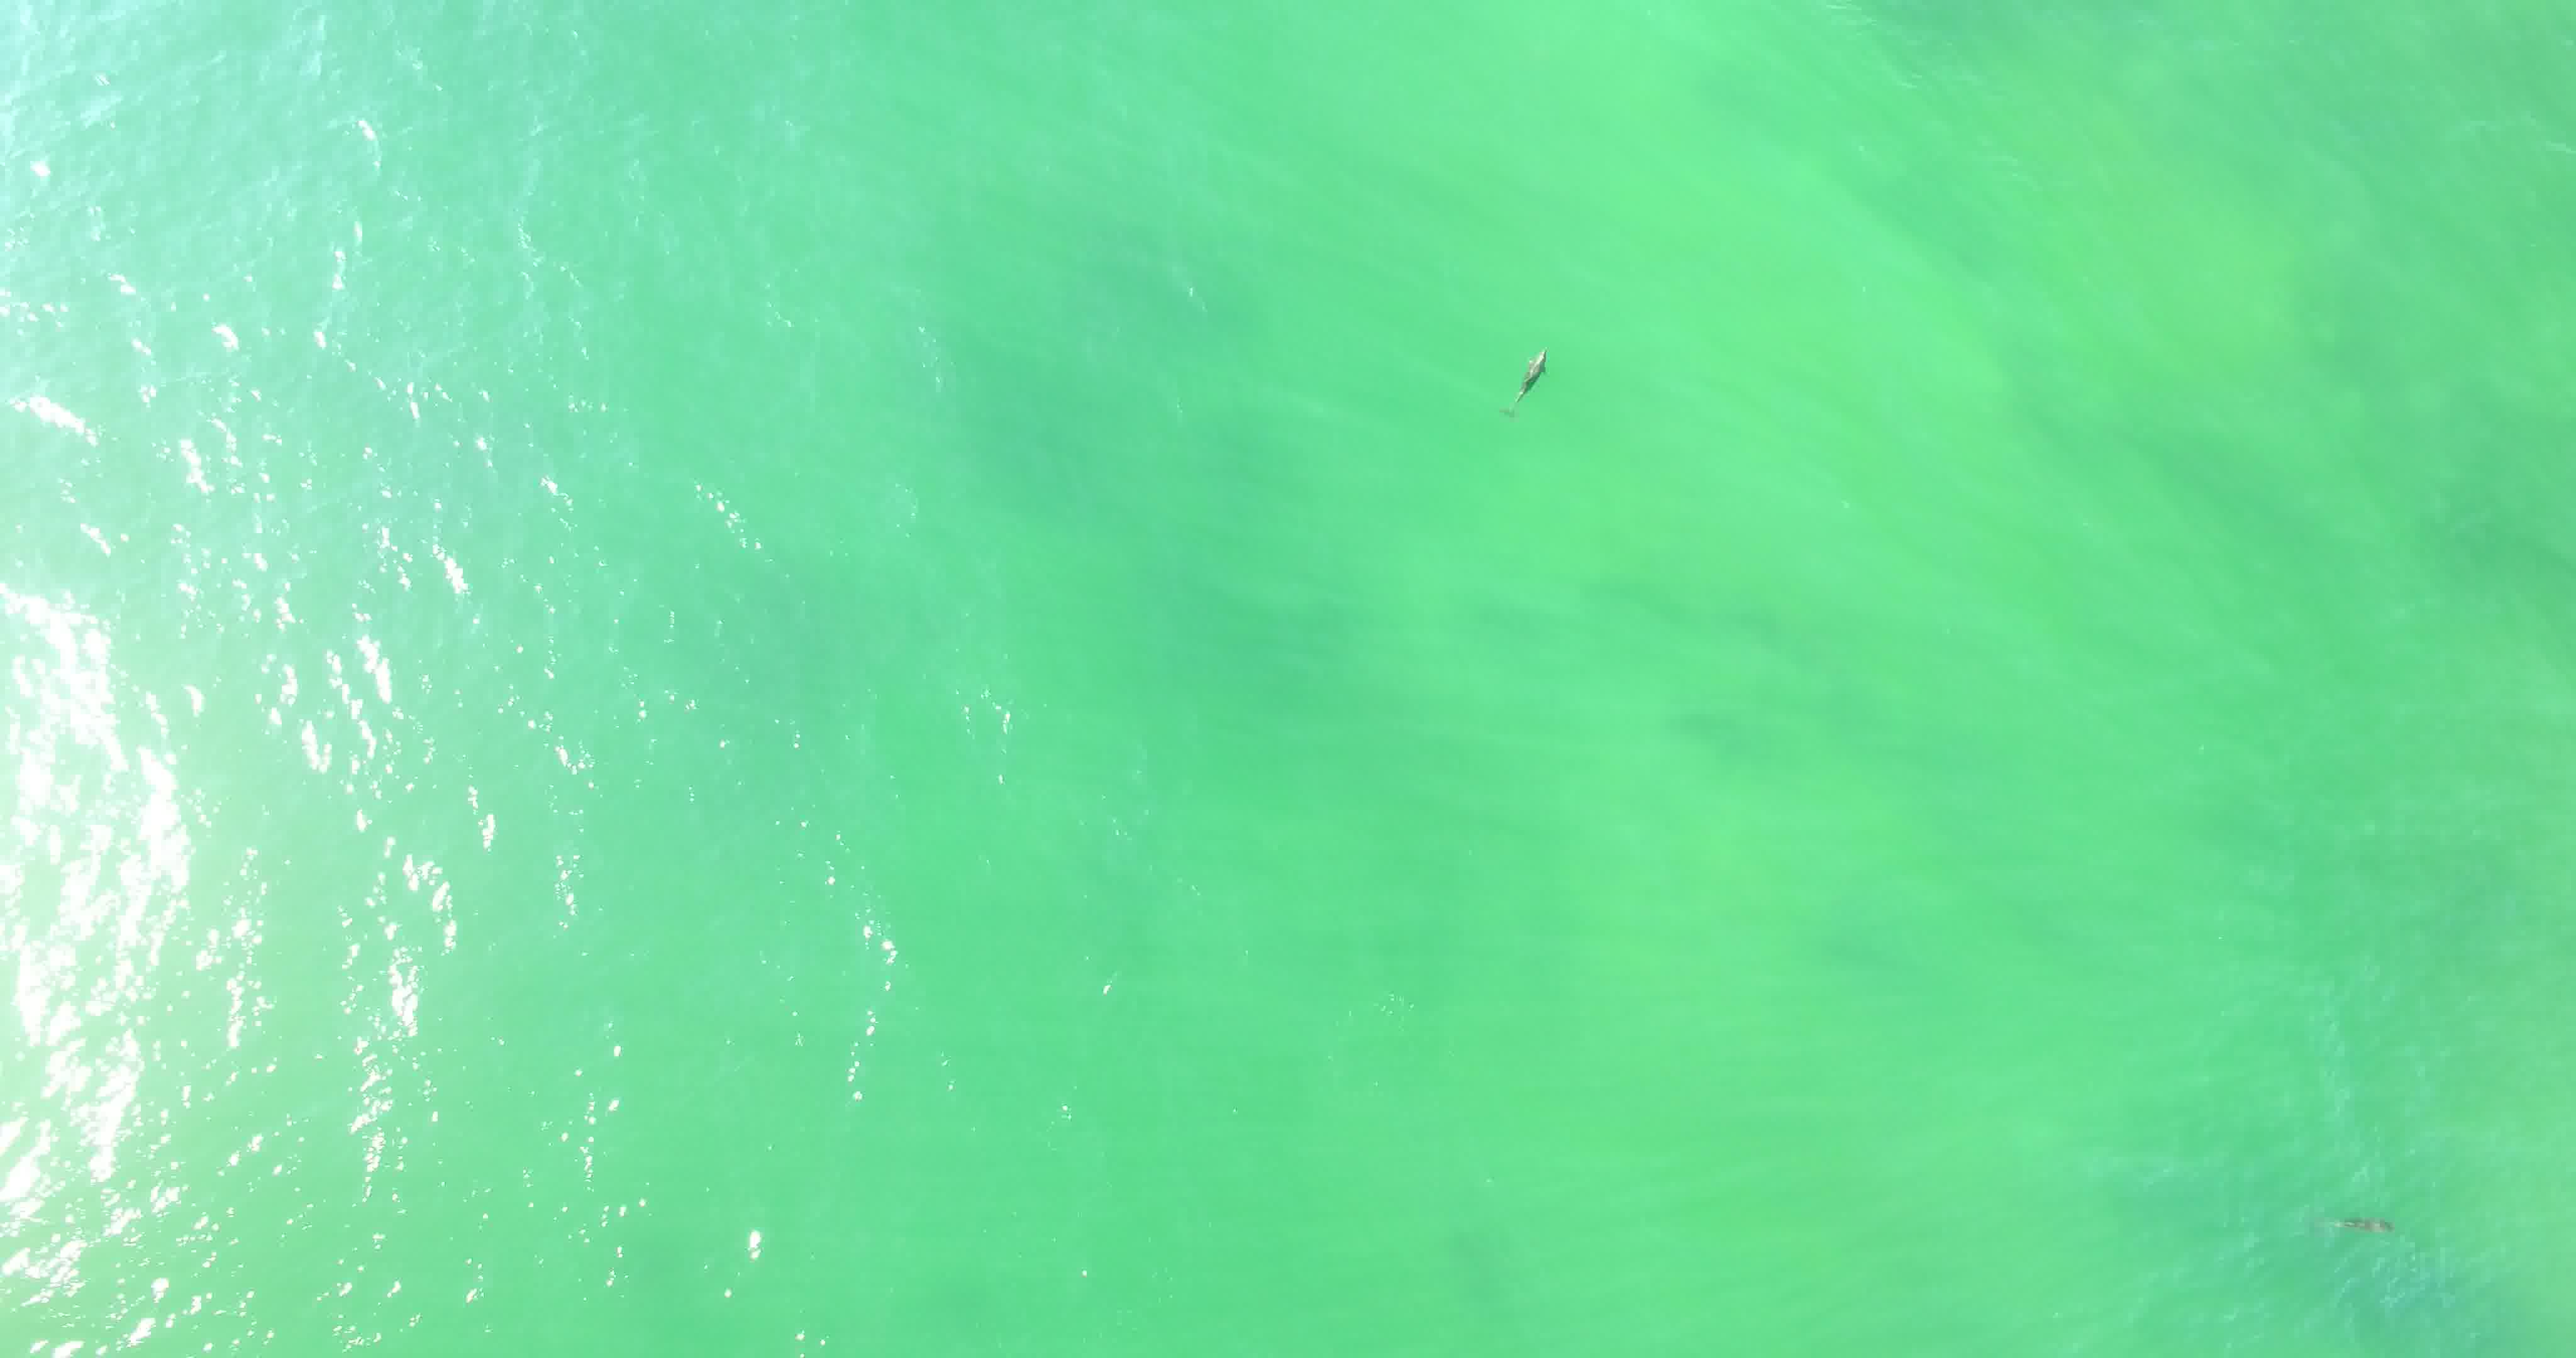dolphin: (1482, 325, 1569, 434)
